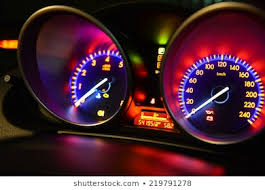Digital_Meter: (137, 109, 178, 133)
